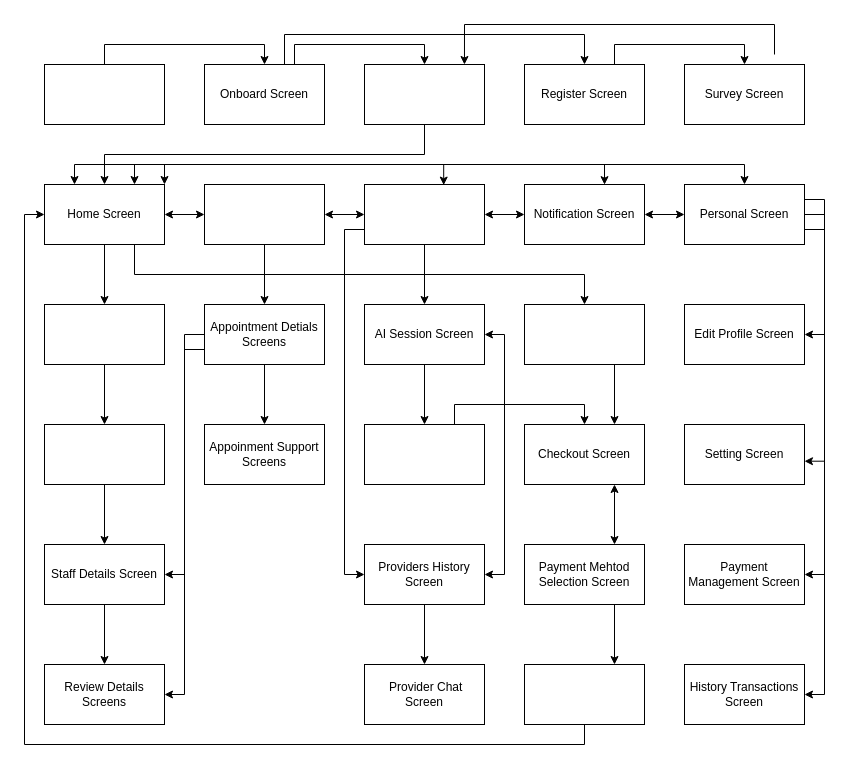
The diagram is 850 pixels wide and 770 high, and some of its shapes have lost their labels. The box of each missing label's shape, as (x1, y1, x2, y2) in pixels:
AI Chat Screen: (364, 424, 484, 484)
Appoinment Screen: (204, 184, 324, 244)
Cart Screen: (524, 304, 644, 364)
Chat Screen: (364, 184, 484, 244)
Login Screen: (364, 64, 484, 124)
Service Detials Screen: (44, 424, 164, 484)
Service Explore Screen: (44, 304, 164, 364)
Splash Screen: (44, 64, 164, 124)
Success Checkout Screen: (524, 664, 644, 724)
